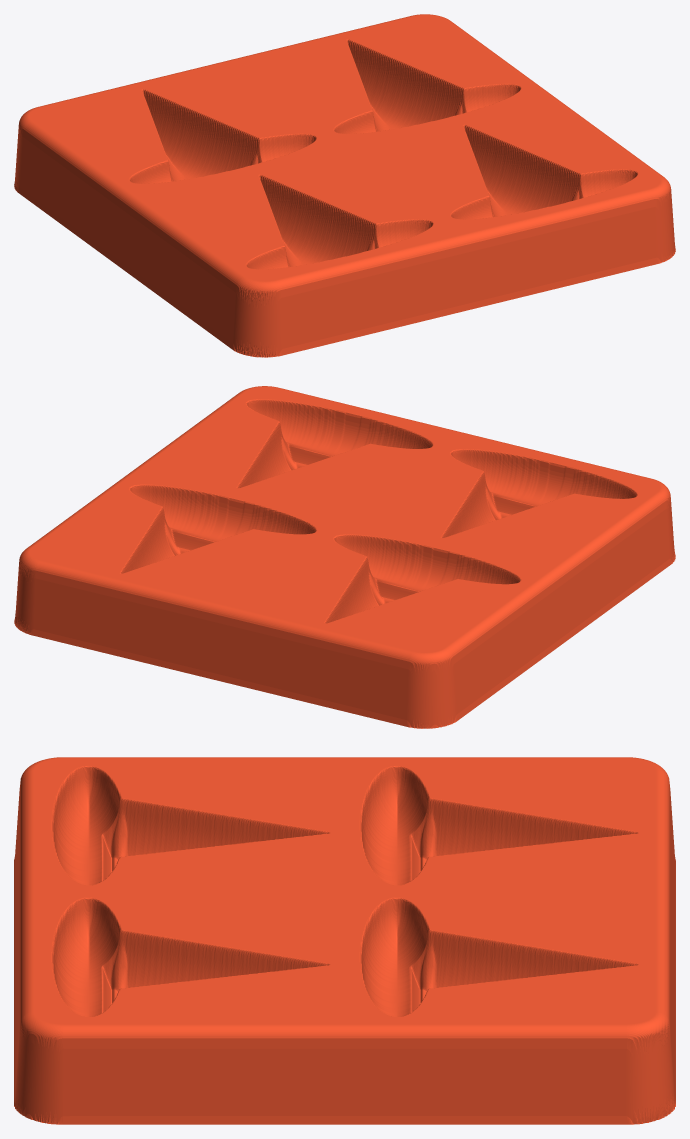
The model's file is mold.glb.
3 renders of one model, top to bottom at view 1: azimuth 30°, elevation 25°; view 2: azimuth 150°, elevation 25°; view 3: azimuth 270°, elevation 25°, orthographic. The views are drawn at different scales.
Parts seen in each view (by area): view 1: geometry_0; view 2: geometry_0; view 3: geometry_0.
Boxes of the visible parts, x1=… form: geometry_0: x1=14, y1=14, x2=675, y2=357; geometry_0: x1=14, y1=386, x2=675, y2=728; geometry_0: x1=14, y1=757, x2=675, y2=1124.
Size of the model in its own units: 0.1218 by 0.0185 by 0.1206.
